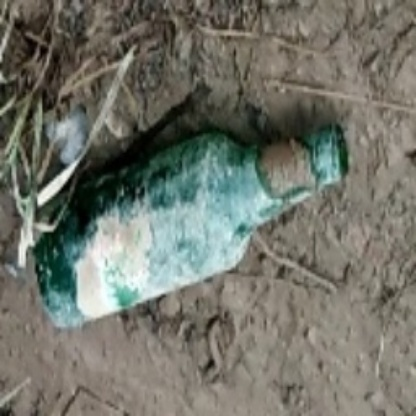bottle: (37, 126, 357, 332)
